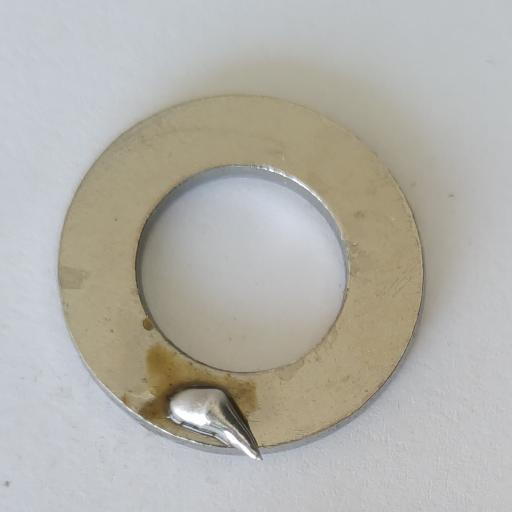excess_material: (166, 387, 264, 461)
